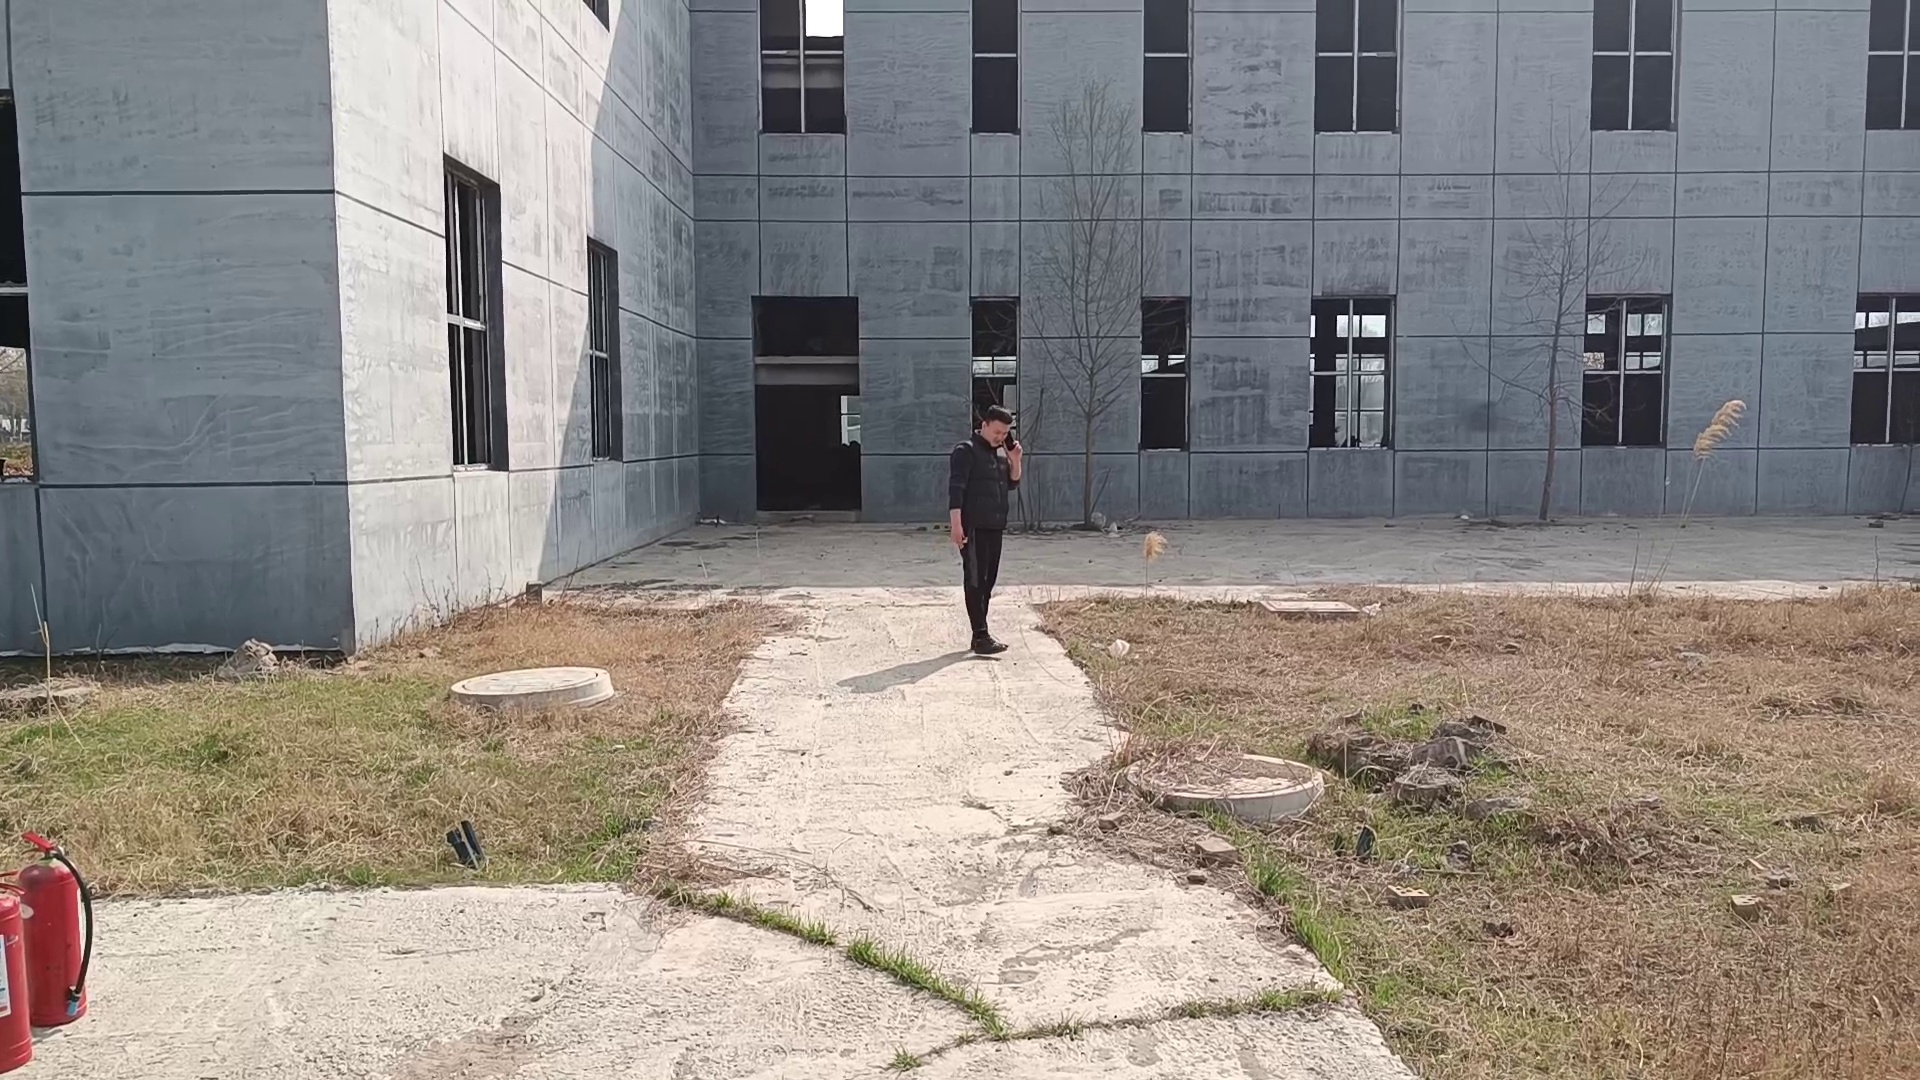phone: (976, 401, 1025, 456)
